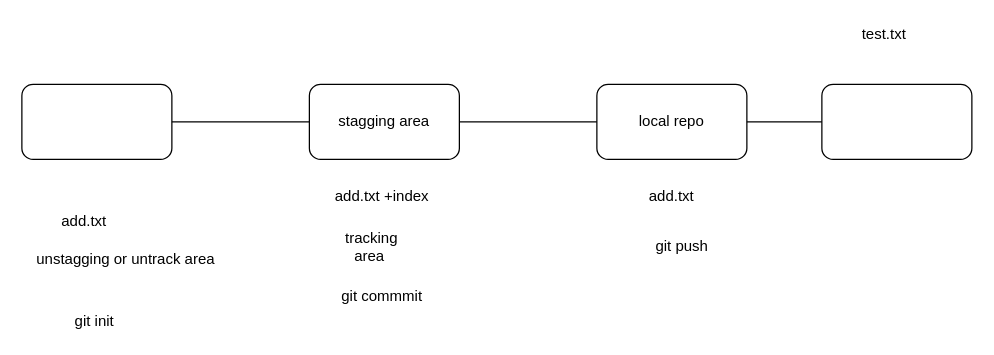
Some shapes in this 994 by 355 pixel diagram are drawn without their labels. The centre of each missing label's shape, as x and y in pixels:
git hub/repo: (x=896, y=121)
workstation: (x=96, y=121)
